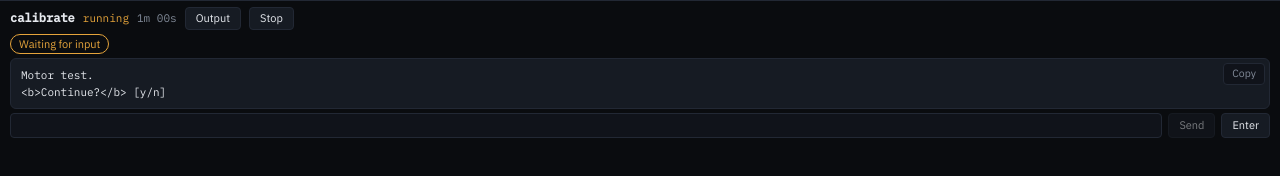
Test case: failed sends › explains a failed send ({"name":"ApiError","status":409,"code":"not_waiting"}) and keeps the text
The image size is (1280, 176).
Type "y" into the field named "Input for".
click(586, 125); type("y")  # box [10,113,1162,138]
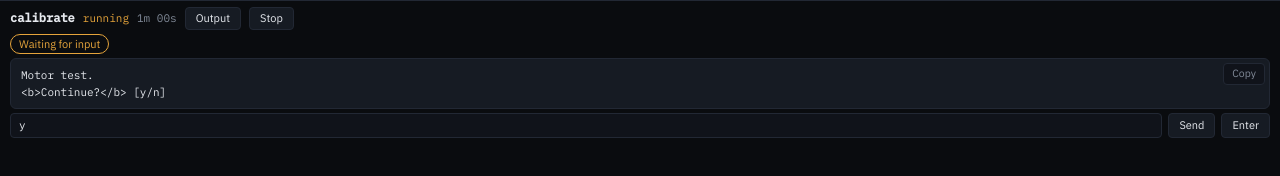
Click the button "Send".
click(1192, 125)  # box [1168,113,1216,138]
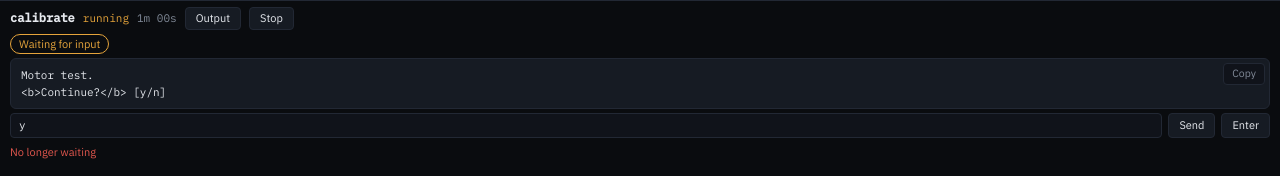
Expected: the message does not show "internal detail", [10,144,96,158]
Now the button "Send" is enabled, box [1168,113,1216,138]
Now the message reads "No longer waiting", box [10,144,96,158]
